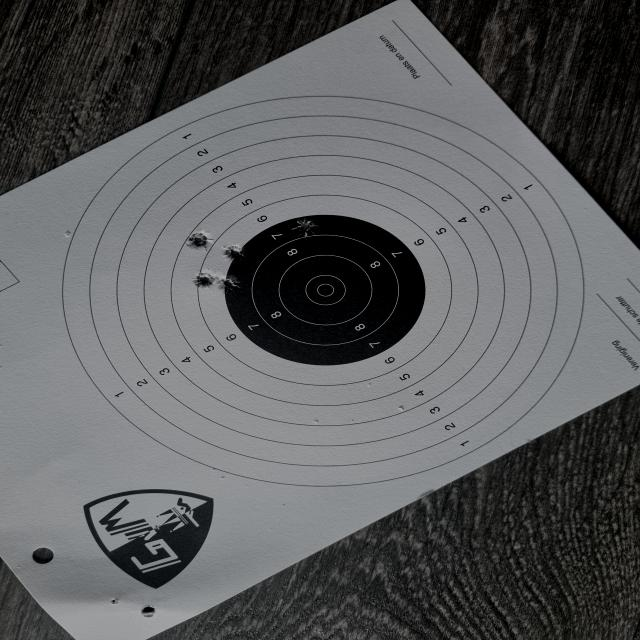5: (186, 233, 214, 251)
6: (194, 273, 218, 287)
7: (220, 275, 242, 294), (223, 245, 246, 260)
8: (292, 218, 317, 237)
Target: (61, 96, 584, 488)
black_contour: (225, 214, 424, 366)
